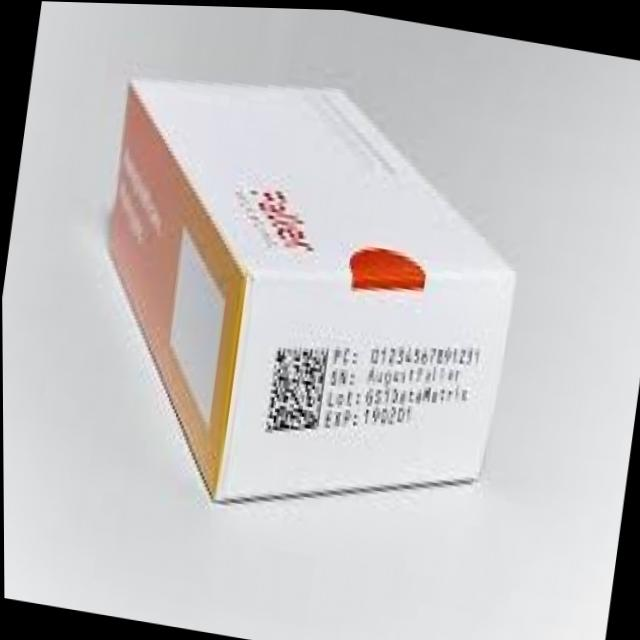datamatrix: (253, 323, 339, 446)
